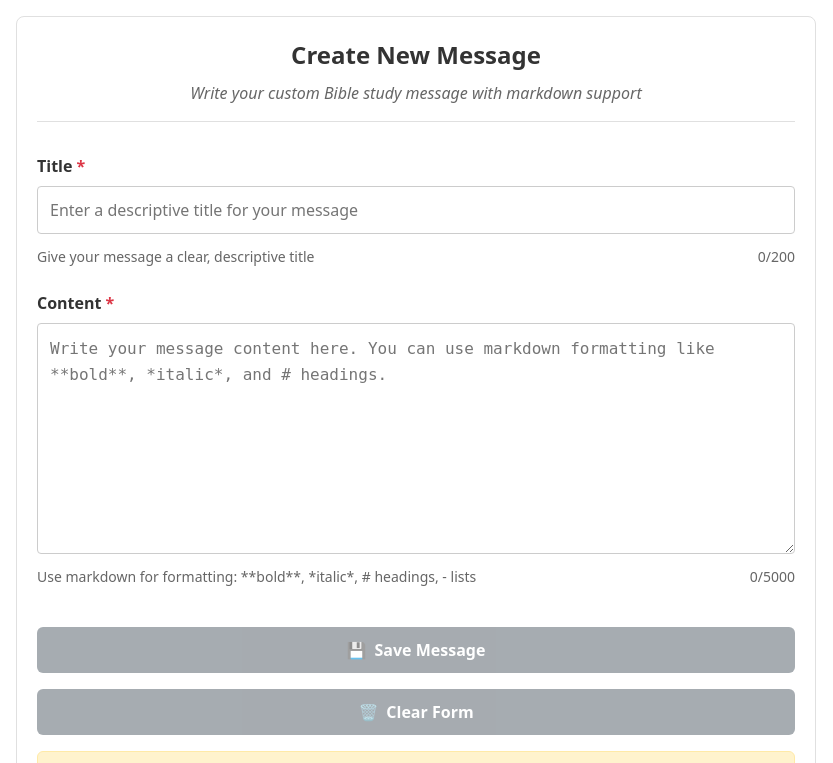
Test case: MessageEditor Component › Form Submission › shows error message when save fails
The image size is (833, 763).
Type "Test Title" into the field labelled "Title *". click: (416, 210)
box: top-left (37, 186), bottom-right (795, 234)
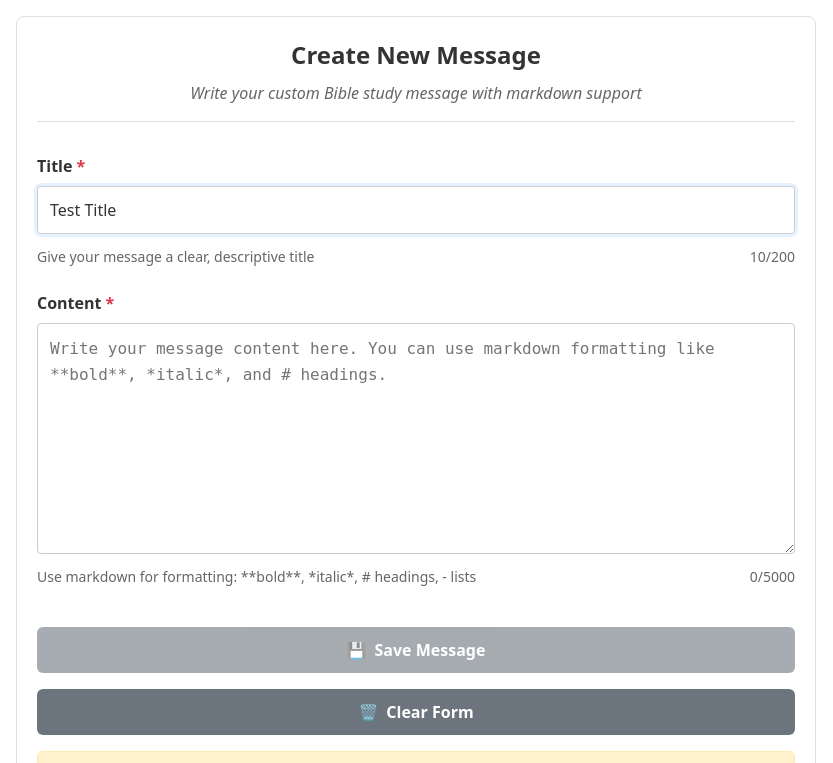
Type "Test content" into the text box labelled "Content *". click: (416, 438)
box: top-left (37, 323), bottom-right (795, 554)
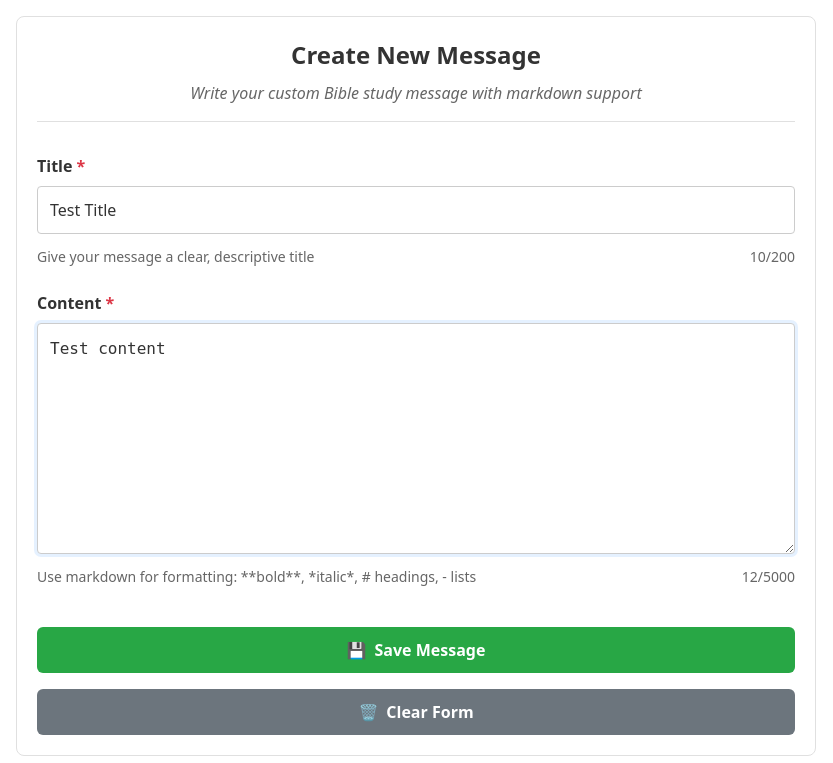
Click the button "💾 Save Message". click: (416, 650)
box: top-left (37, 627), bottom-right (795, 673)
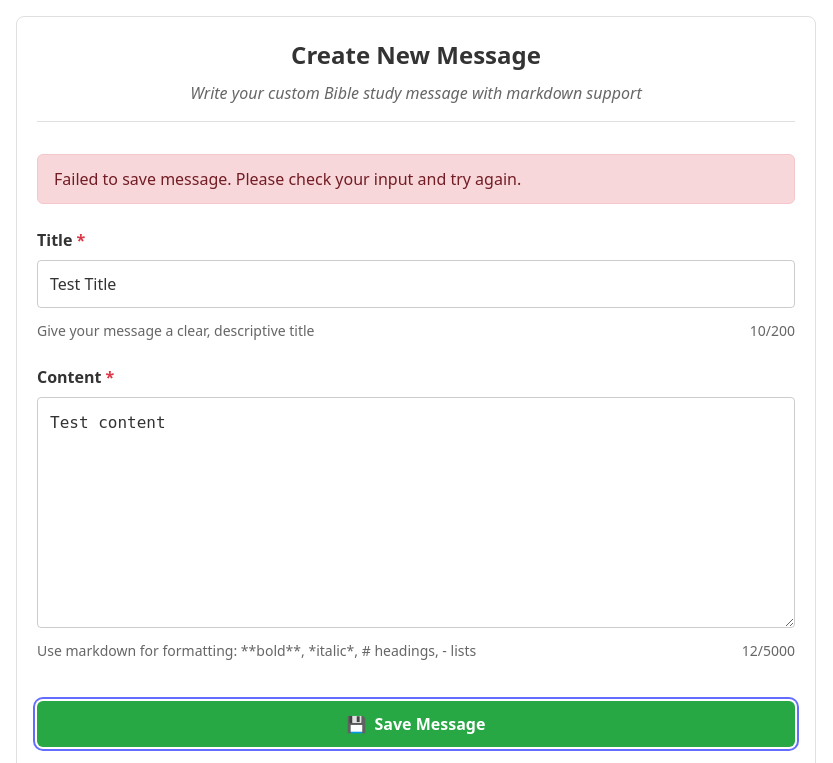
Check: the text "Failed to save message. Please check your input and try again." is shown, box top-left (37, 154), bottom-right (795, 204)
